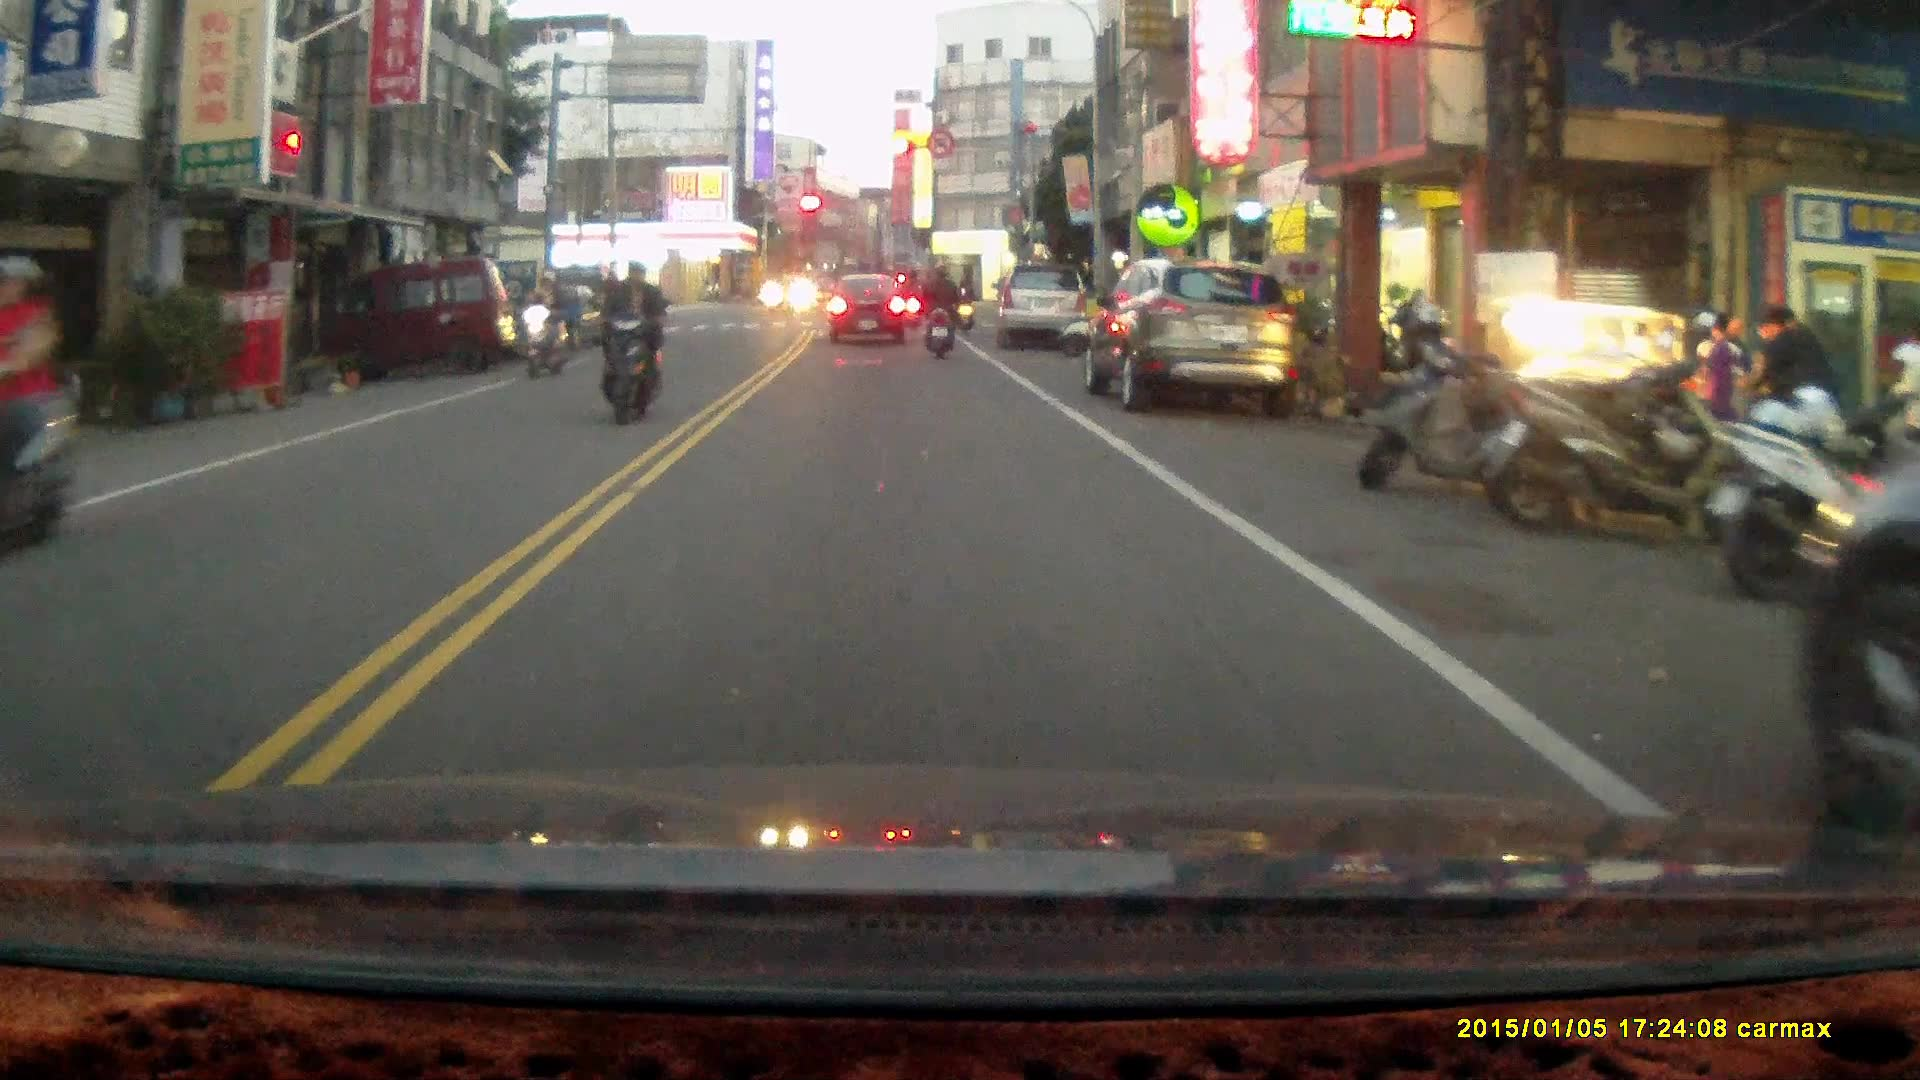pedestrian: (1755, 308, 1827, 475), (1694, 309, 1746, 464)
rider: (0, 254, 83, 563), (587, 259, 665, 425), (518, 267, 574, 381), (915, 262, 959, 361), (898, 268, 924, 328), (954, 272, 978, 335)
vehicle: (1797, 469, 1920, 827), (1085, 260, 1303, 419), (314, 258, 518, 386), (1000, 264, 1090, 352), (827, 275, 914, 343)
